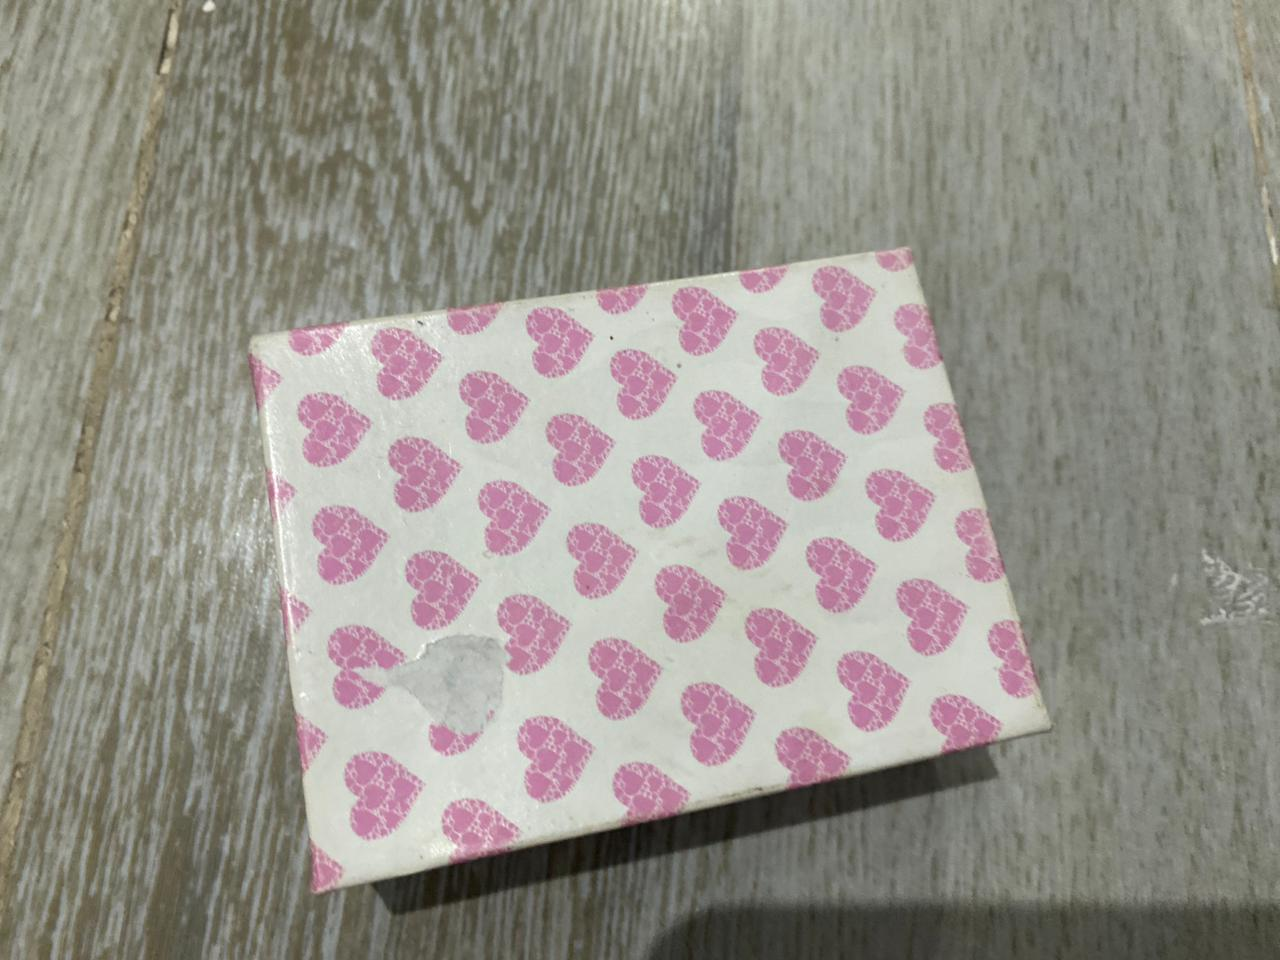Pink Box: (243, 243, 1062, 901)
